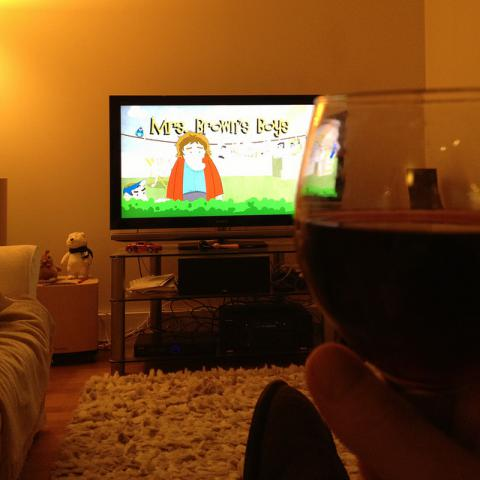car: (125, 240, 163, 253)
